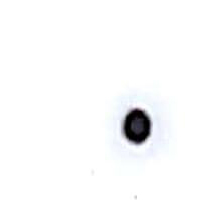cancer: (80, 82, 187, 178)
